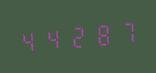eight: (90, 18, 113, 49)
four: (18, 25, 41, 56), (42, 23, 65, 54)
seven: (114, 16, 137, 47)
two: (66, 21, 89, 51)
